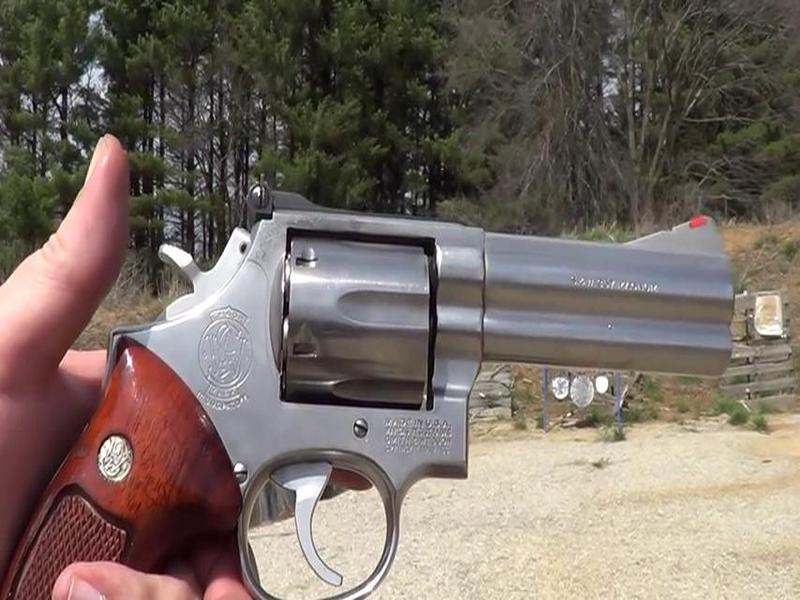Revolver: (52, 189, 772, 584)
